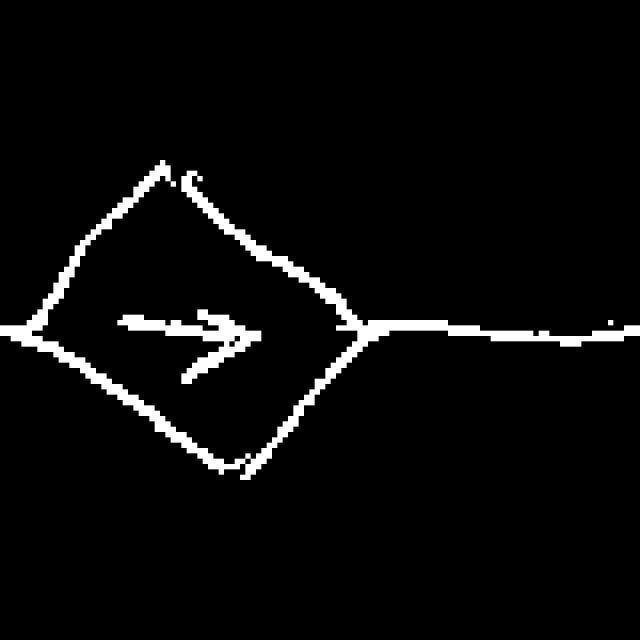dependant_current: (34, 161, 370, 485)
